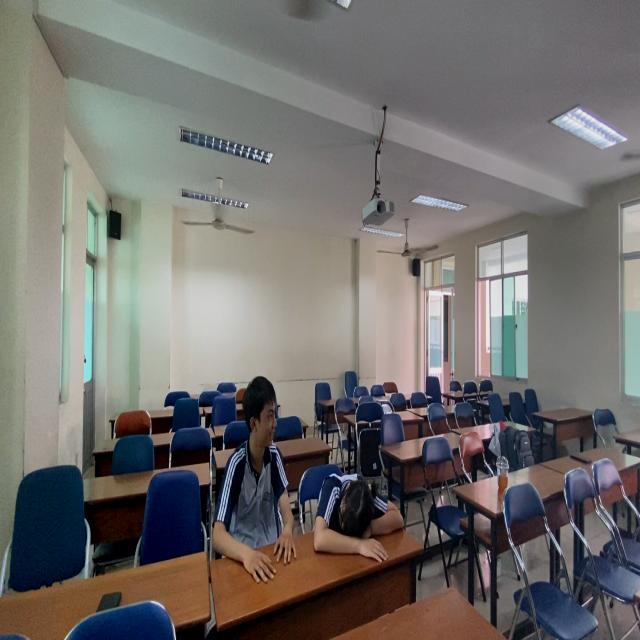sleep: (312, 472, 406, 558)
